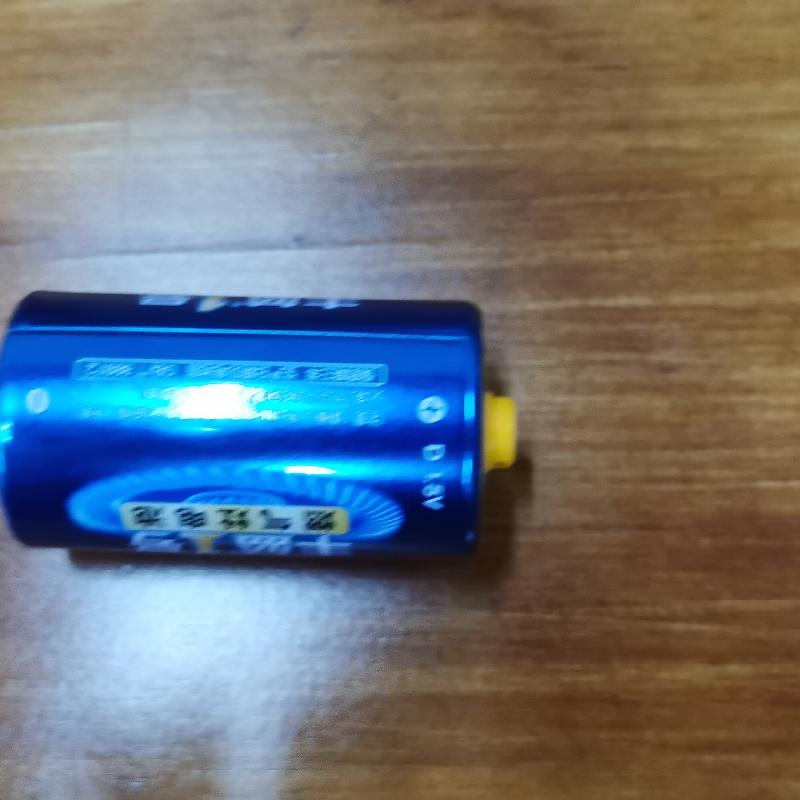battery: (3, 282, 523, 570)
